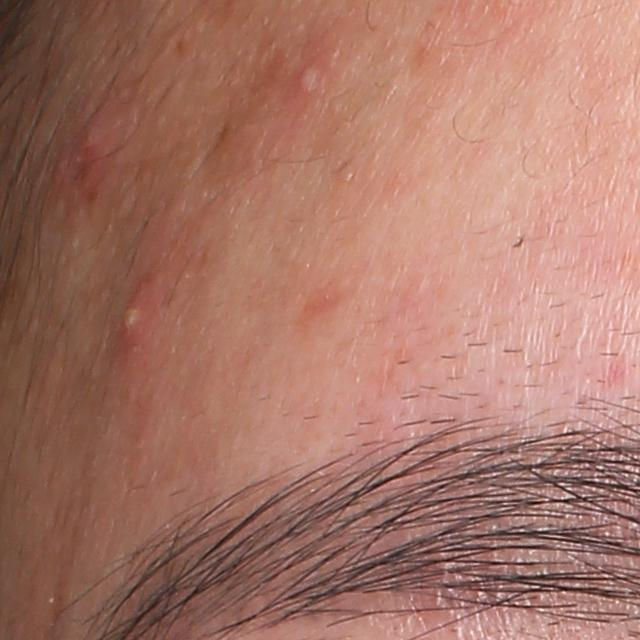papule: (74, 112, 115, 197)
pustule: (119, 276, 162, 346), (287, 55, 332, 101)
